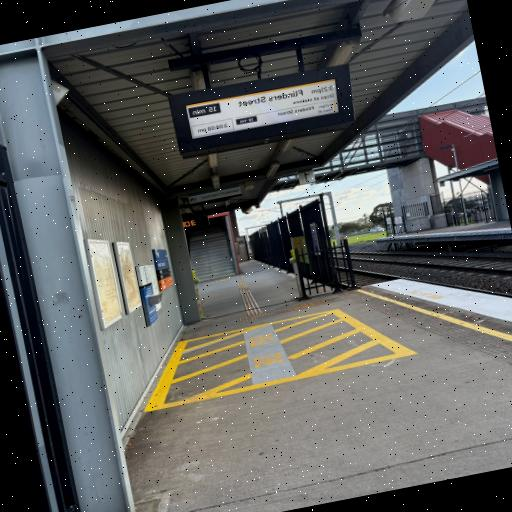Obstruction: (288, 250, 341, 302)
clear_path: (139, 300, 512, 512), (203, 267, 298, 315)
stairs: (187, 223, 237, 283)
